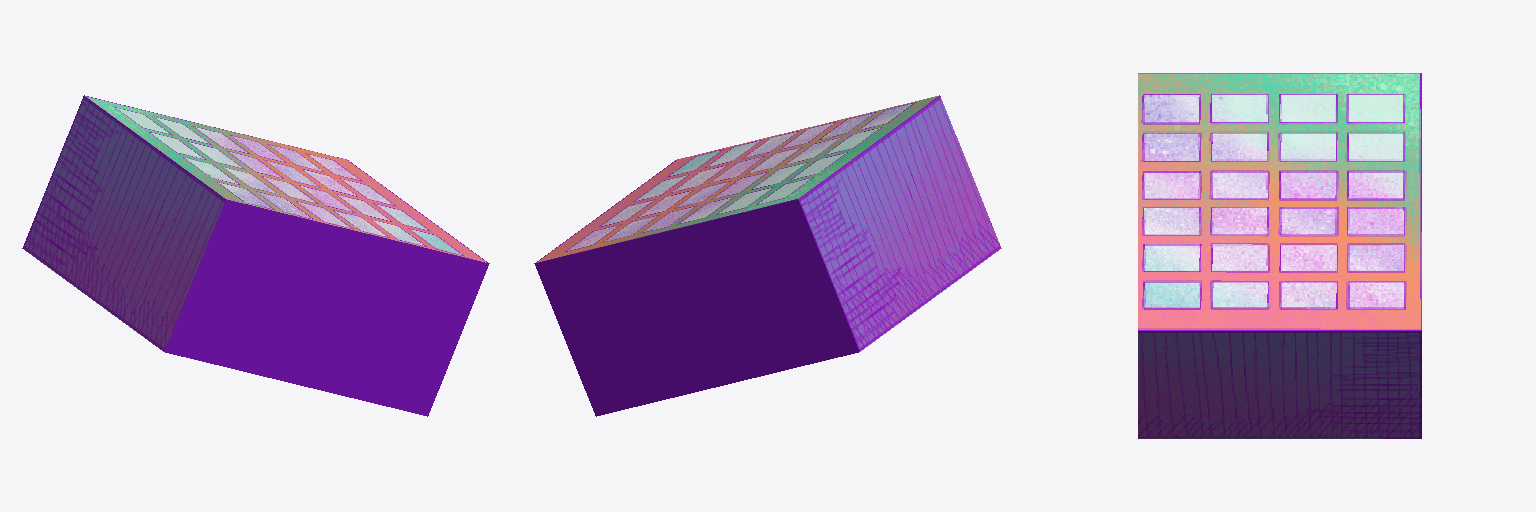
3 renders of one model, left to right at view 1: azimuth 30°, elevation 25°; view 2: azimuth 150°, elevation 25°; view 3: azimuth 270°, elevation 25°, orthographic.
Parts seen in each view (by area): view 1: Build_C_Bot; view 2: Build_C_Bot; view 3: Build_C_Bot.
Part boxes in pixels (left/top/right/bottom): Build_C_Bot: left=22, top=95, right=489, bottom=416; Build_C_Bot: left=534, top=95, right=1001, bottom=416; Build_C_Bot: left=1138, top=73, right=1421, bottom=438.
Bounding box in the file's own units: 0.2852 × 0.2235 × 0.2153.
Materials: 1 (1 with a texture image).